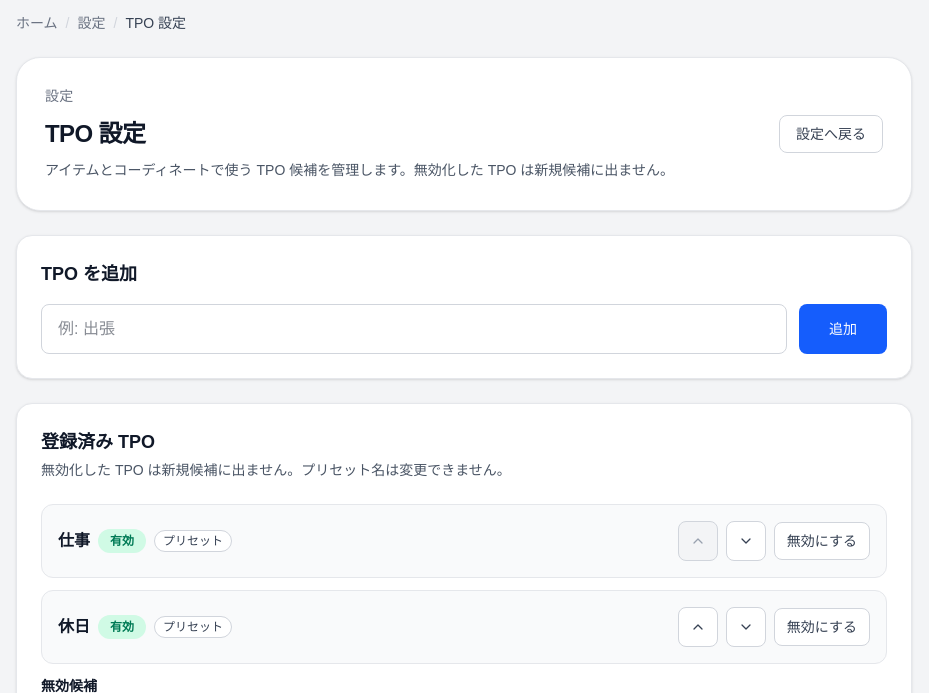
Test case: SettingsTposPage › 422 validation では具体的な項目エラーを表示する
The width and height of the screenshot is (929, 693).
Click the button "追加".
click(843, 329)  # box left=799, top=304, right=887, bottom=354
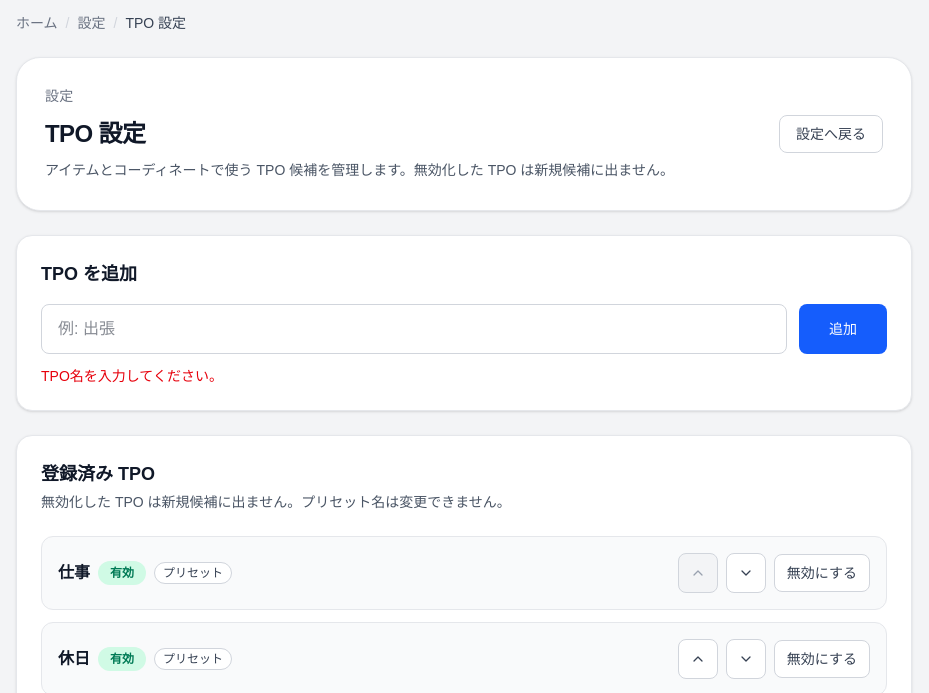
Check: the text "TPO名を入力してください。" is shown, box left=41, top=368, right=223, bottom=384
